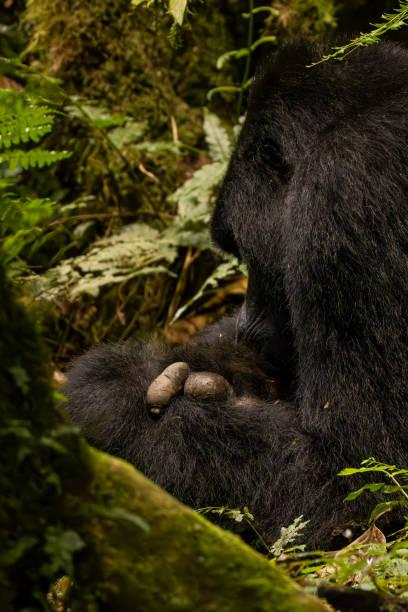goriile_montagne: (85, 61, 408, 556)
